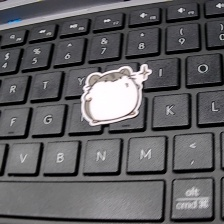mouse: (80, 63, 155, 126)
